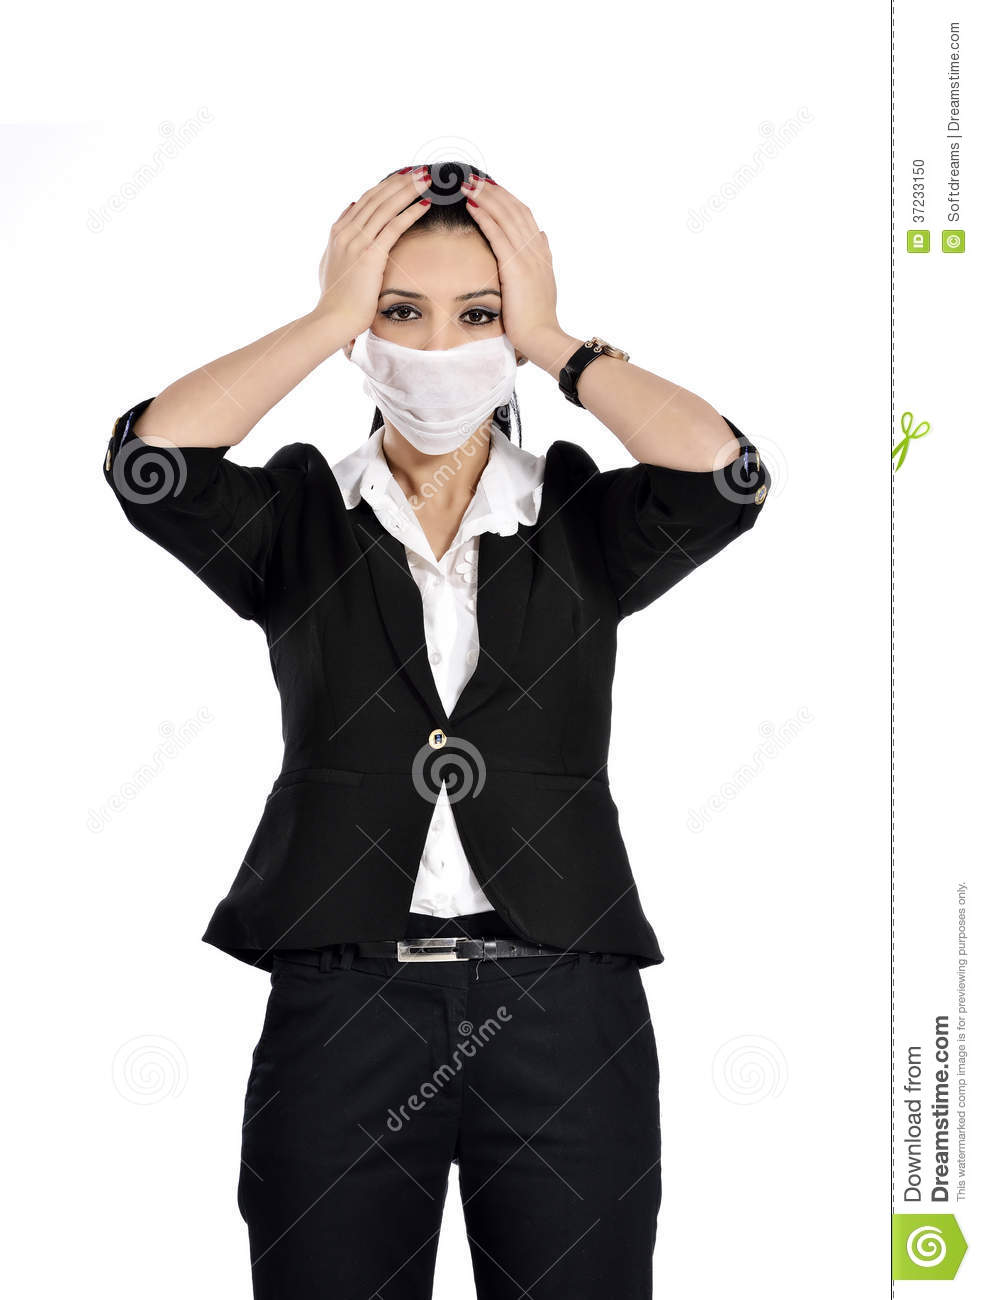mask: (351, 333, 514, 452)
